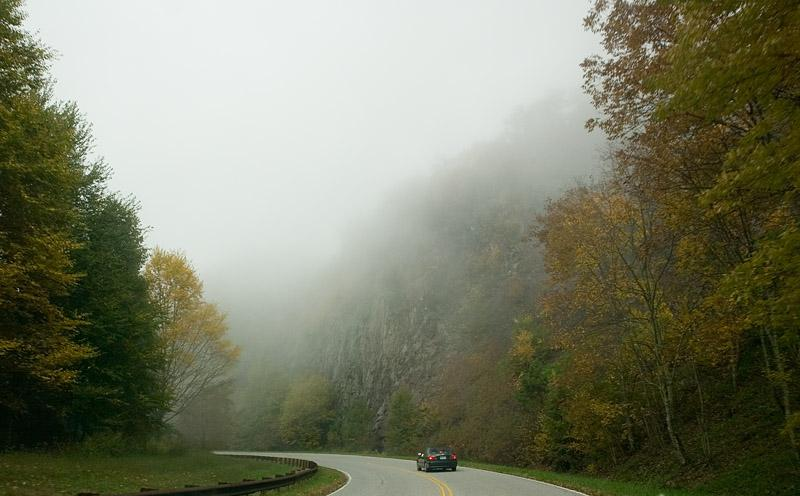car: (416, 446, 457, 472)
